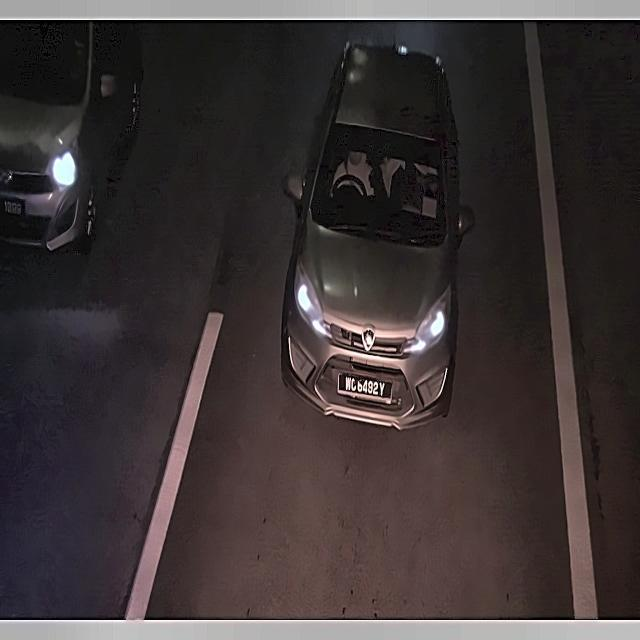car: (334, 368, 398, 410), (0, 187, 32, 220)
